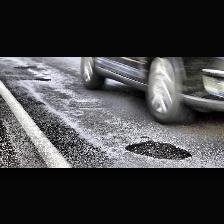pothole: (125, 140, 192, 160)
